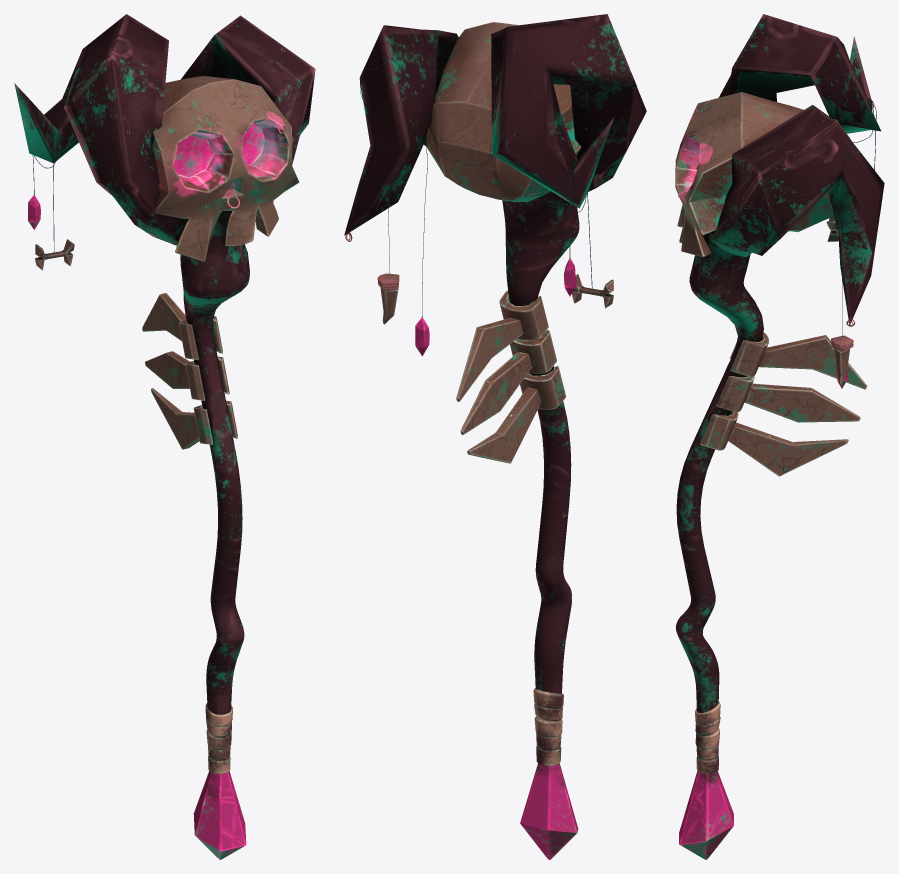
The model's file is staff.glb.
The picture shows the model from 3 angles, left to right: view 1: azimuth 30°, elevation 25°; view 2: azimuth 150°, elevation 25°; view 3: azimuth 270°, elevation 25°; orthographic projection. The views are drawn at different scales.
Parts seen in each view (by area): view 1: Object_2, Object_3; view 2: Object_2, Object_3; view 3: Object_2, Object_3.
Boxes of the visible parts, bbox=[...] form: Object_2: bbox=[14, 14, 315, 859]; Object_3: bbox=[28, 122, 242, 252]; Object_2: bbox=[344, 14, 646, 859]; Object_3: bbox=[360, 56, 592, 356]; Object_2: bbox=[675, 14, 884, 859]; Object_3: bbox=[695, 98, 876, 388].
Bounding box in the file's own units: 9.01 × 26.91 × 6.31.
1 material, 1 textured.
